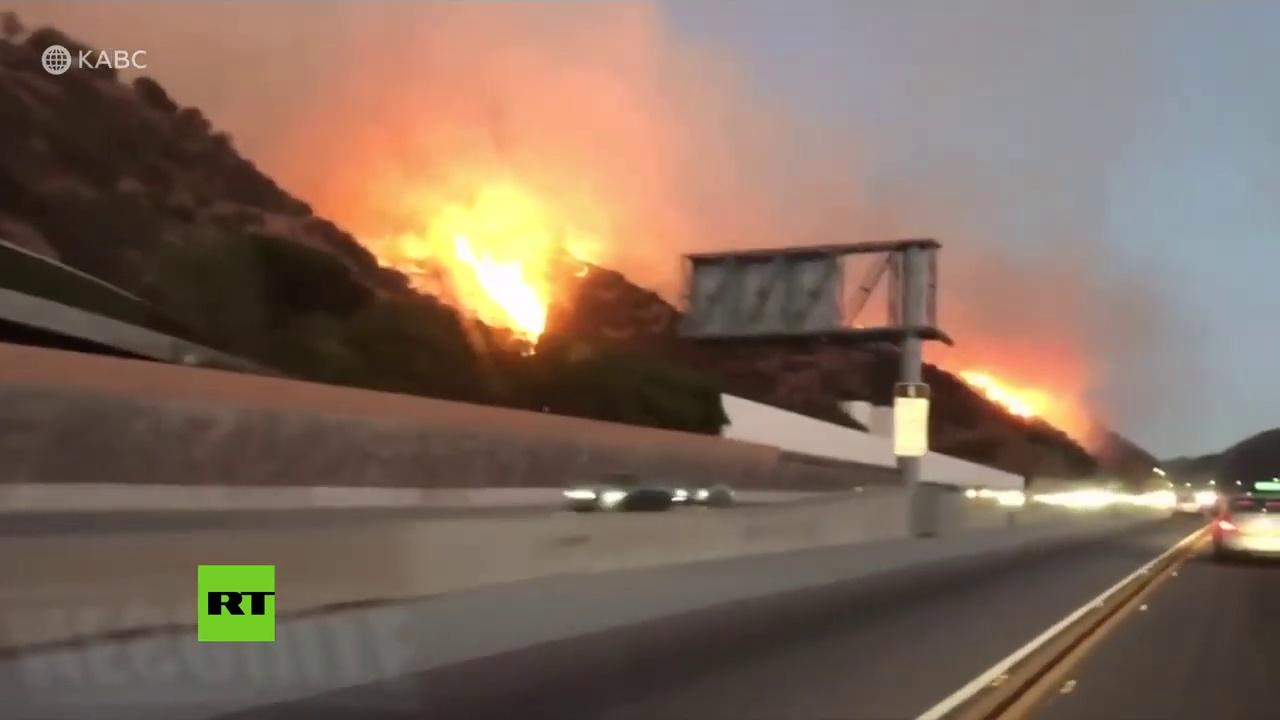Fire: (362, 187, 597, 359), (963, 371, 1052, 423)
